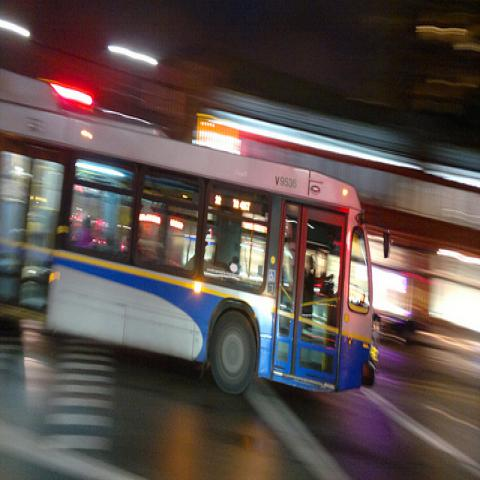bus: (0, 67, 371, 398)
